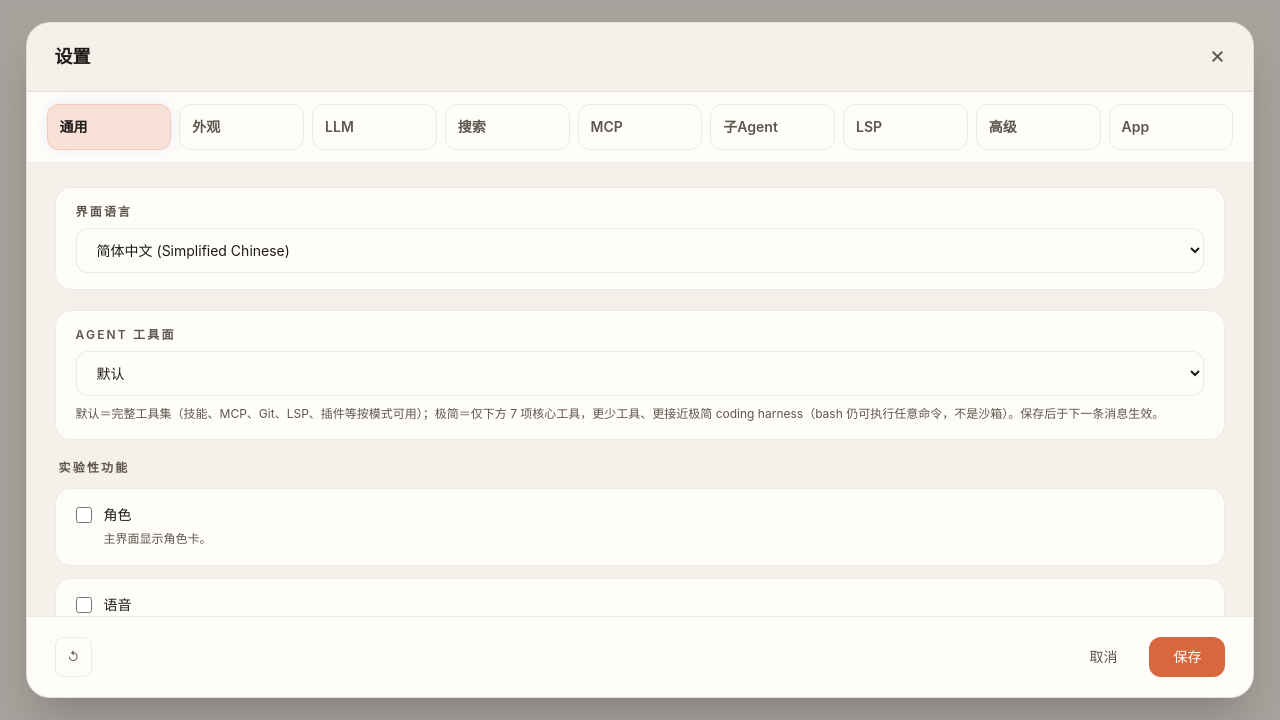
Scenario: SettingsModal › llm tab displays role slot assignment and model profile pool
Click the button titled "配置主模型、快速模型、导师模型、API 接入方式和采样参数。".
click(374, 127)  # box [312, 104, 437, 150]
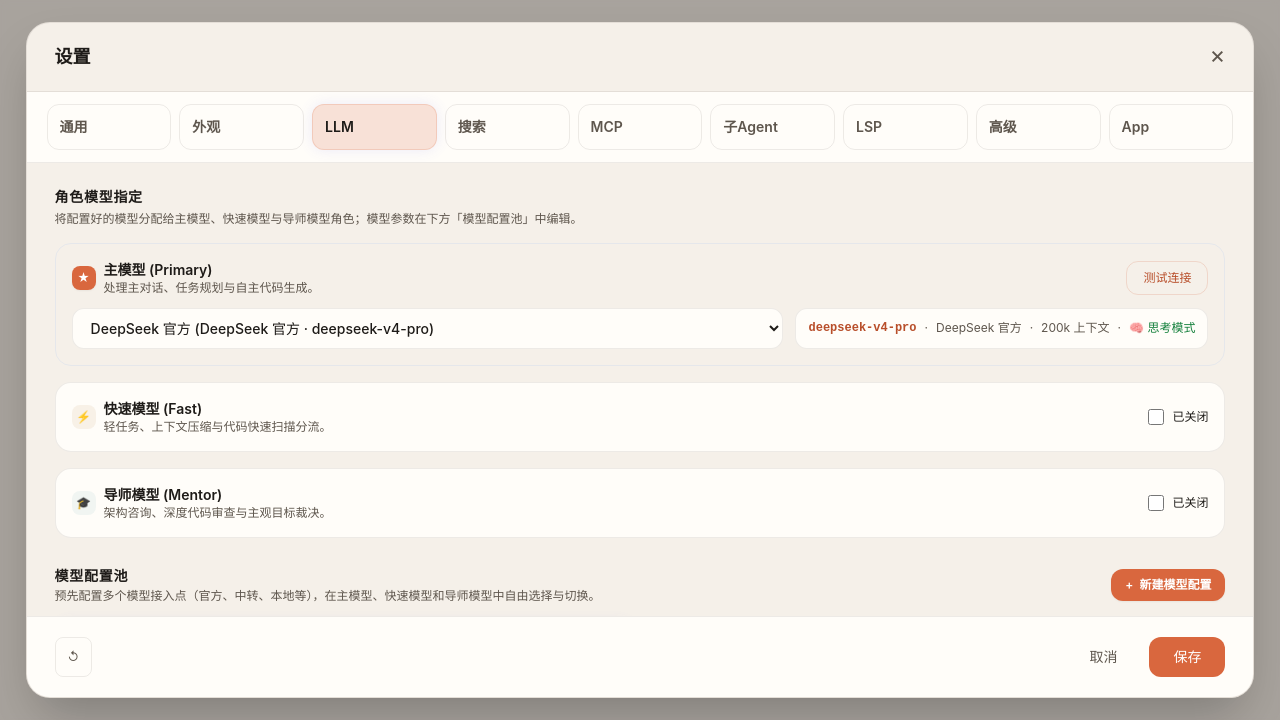
Now the text "角色模型指定" is shown, box [55, 188, 143, 205]
Now the text "模型配置池" is shown, box [55, 211, 583, 226]
Now the text "DeepSeek 官方" is shown, box [936, 320, 1022, 336]
